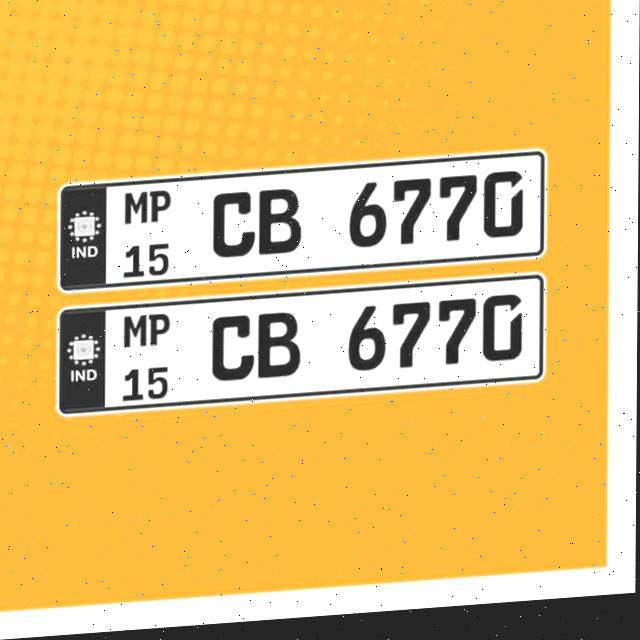plate: (60, 156, 544, 295), (59, 280, 545, 414)
